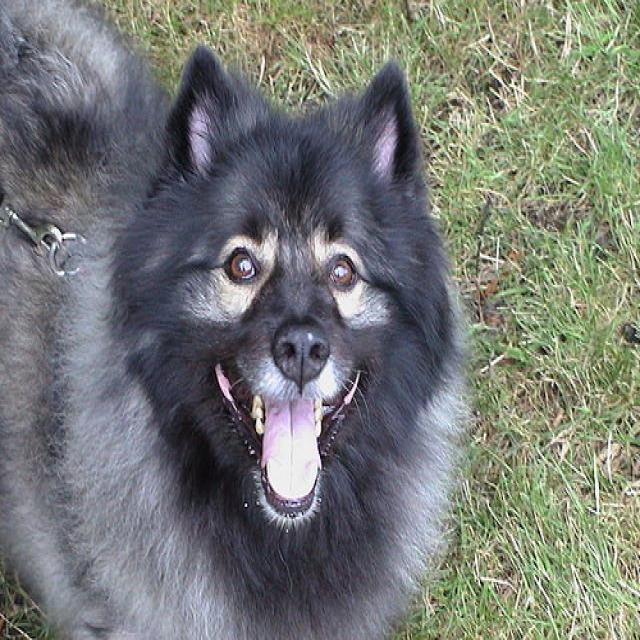dog-keeshond: (1, 2, 474, 637)
